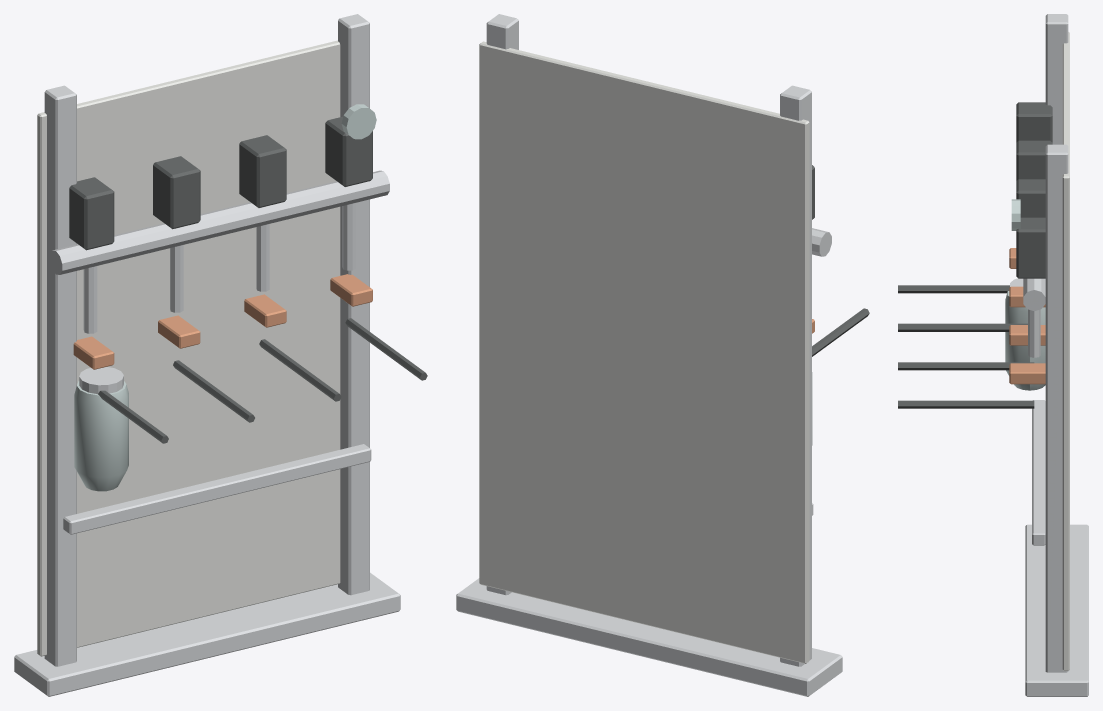
File: garden-centre-and-florist-drip-irrigation-manifold-aa463012__17731.glb
The picture shows the model from 3 angles, left to right: view 1: azimuth 30°, elevation 25°; view 2: azimuth 150°, elevation 25°; view 3: azimuth 270°, elevation 25°; orthographic projection. The views are drawn at different scales.
Visible parts, largest first — view 1: drip-irrigation-manifold; view 2: drip-irrigation-manifold; view 3: drip-irrigation-manifold.
Part boxes in pixels (x1,y1,x2,y2): drip-irrigation-manifold: (14, 14, 427, 696); drip-irrigation-manifold: (456, 14, 869, 696); drip-irrigation-manifold: (898, 14, 1088, 696).
Size of the model in its own units: 0.8201 by 1.3 by 0.42.
